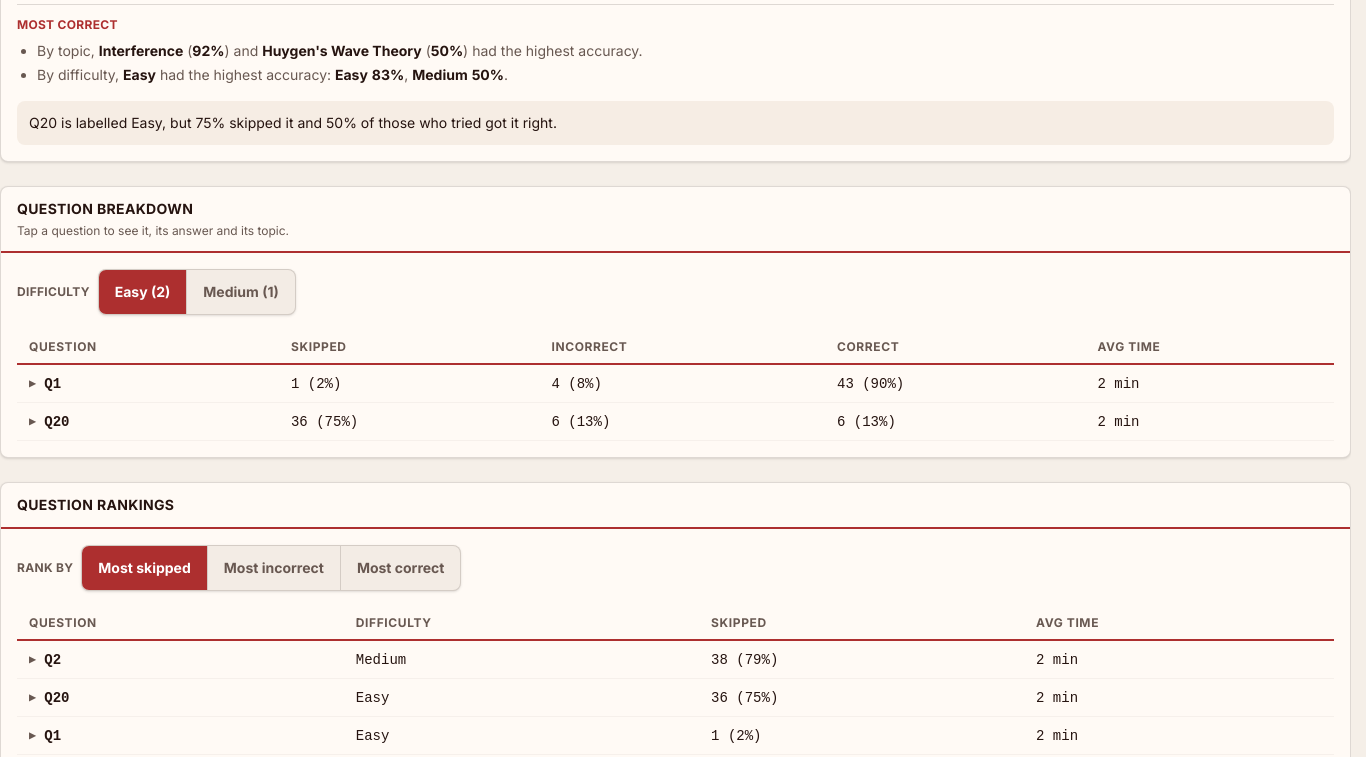
Scenario: ChapterTestReport › shows no question text or PDFs for an old-CMS test
The image size is (1366, 757).
(page scrolled)
Click the button "▶ Q1" in the row of "4 (8%)": (45, 384) [29, 374, 61, 394]
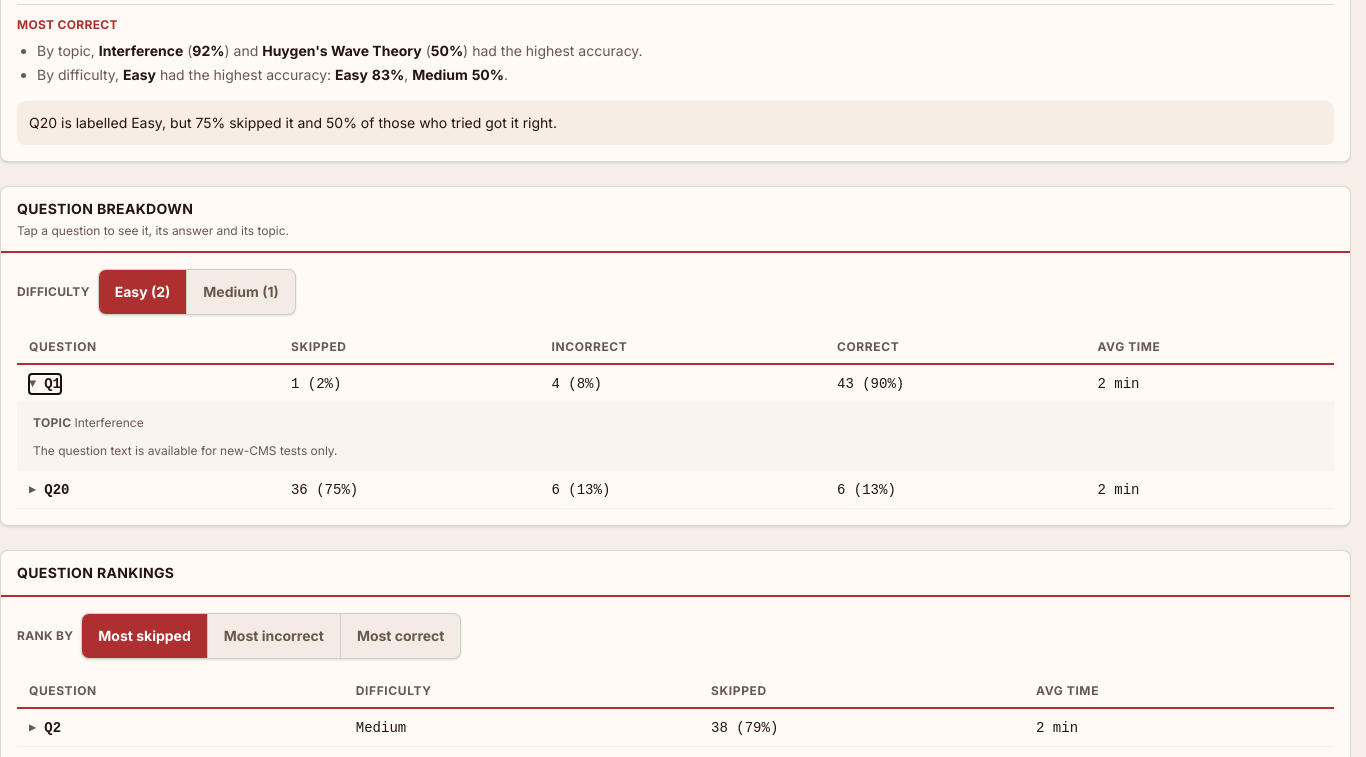
Now the text "The question text is available for new-CMS tests only." is shown, box [33, 443, 338, 458]
